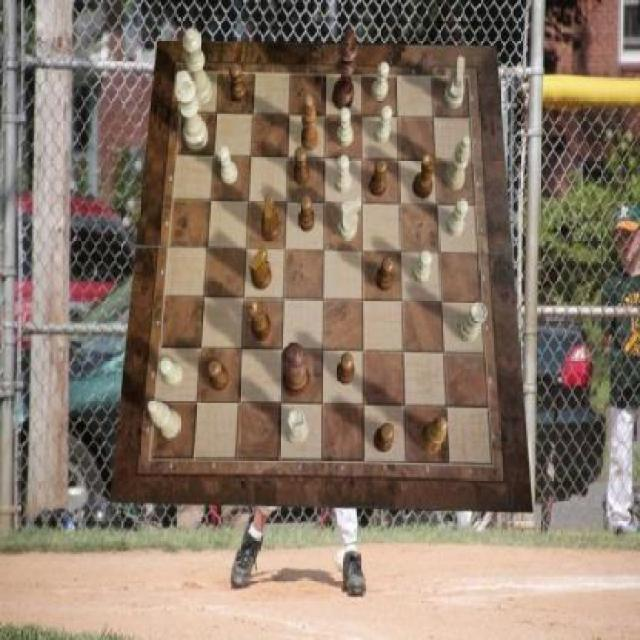bishop: (420, 417, 448, 455), (302, 96, 321, 152)
black-bishop: (332, 28, 358, 110)
black-king: (249, 246, 272, 290), (262, 194, 282, 241)
black-knight: (206, 360, 229, 392), (229, 63, 247, 102), (298, 196, 316, 232), (294, 148, 311, 186), (371, 159, 388, 196), (376, 257, 394, 291), (337, 354, 355, 386), (374, 425, 394, 452)
black-pawn: (283, 342, 311, 398)
black-queen: (414, 152, 438, 198), (249, 300, 272, 342)
black-rook: (444, 134, 470, 190), (148, 400, 182, 440)
white-bishop: (176, 71, 210, 152)
white-king: (444, 57, 466, 109), (338, 195, 362, 241)
white-knight: (446, 199, 469, 236), (217, 146, 238, 185), (372, 62, 390, 100), (412, 250, 432, 284), (160, 359, 185, 386), (374, 106, 391, 145), (337, 108, 353, 148), (336, 155, 352, 194)
white-pawn: (183, 28, 214, 106)
white-queen: (457, 303, 487, 343), (286, 410, 309, 446)
